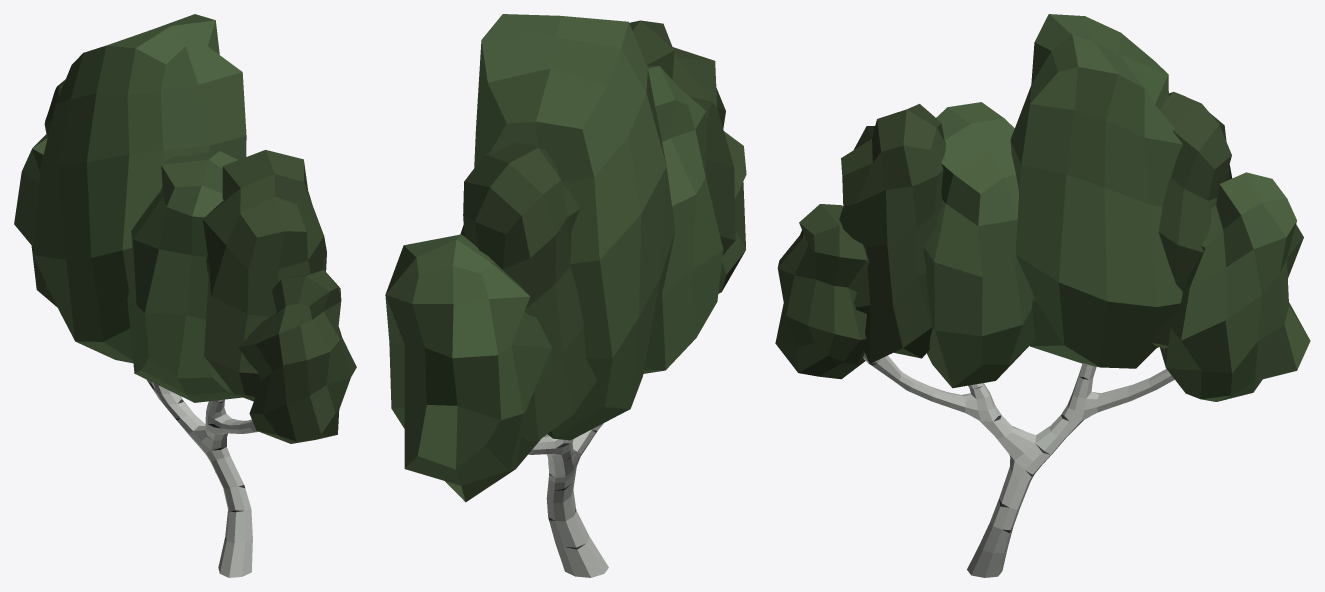
The model's file is birch-4.glb.
The picture shows the model from 3 angles, left to right: view 1: azimuth 30°, elevation 25°; view 2: azimuth 150°, elevation 25°; view 3: azimuth 270°, elevation 25°; orthographic projection. The views are drawn at different scales.
Visible parts, largest first — view 1: BirchTree_4; view 2: BirchTree_4; view 3: BirchTree_4.
Boxes of the visible parts, <box> form: BirchTree_4: <box>14,14,356,577</box>; BirchTree_4: <box>385,14,746,577</box>; BirchTree_4: <box>775,14,1310,577</box>.
Size of the model in its own units: 1.15 by 3.56 by 3.29.
